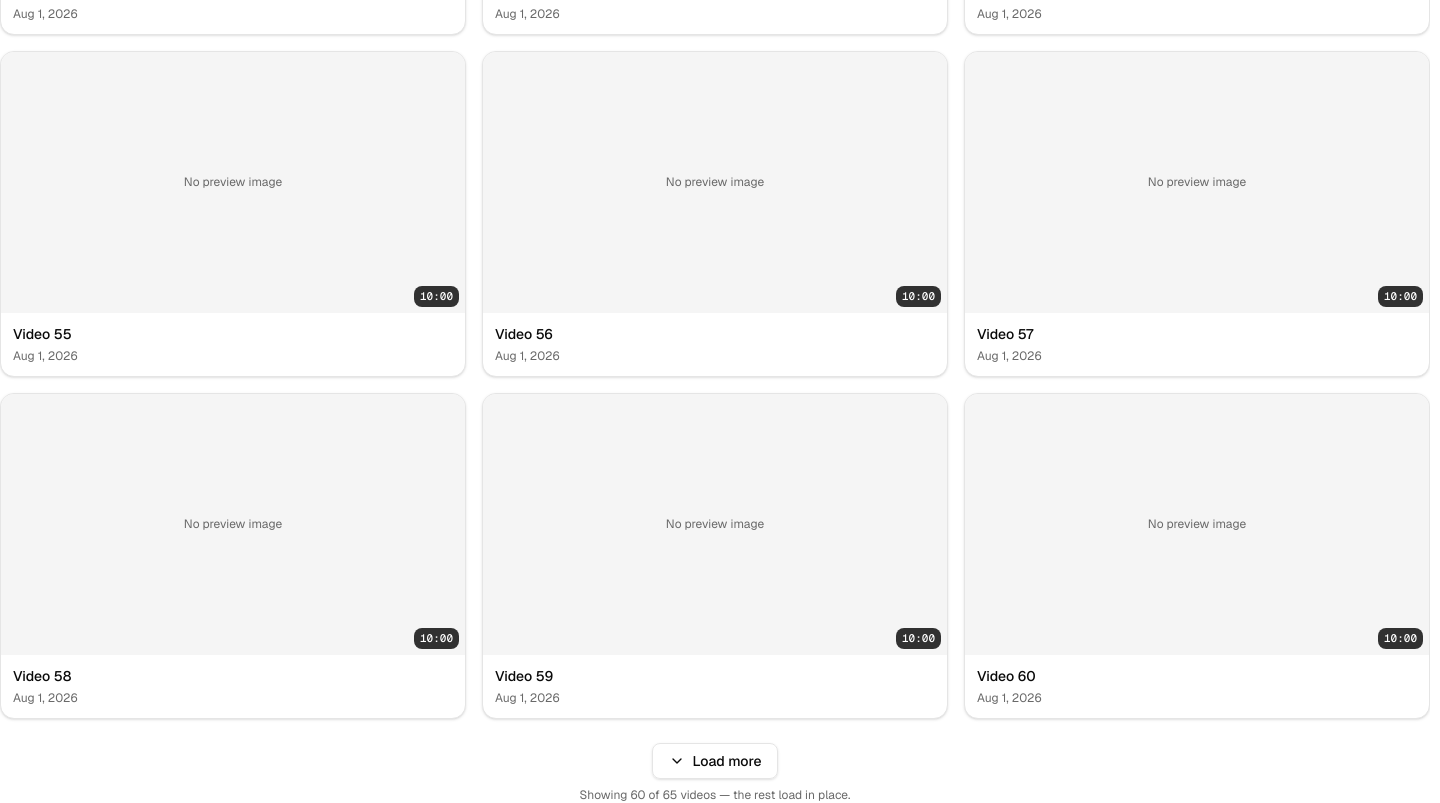
FeedTabs pagination › reveals older items in place via Load more
(page scrolled)
Check: the text "Showing 60 of 65 videos — the rest load in place." is shown, box [580,787,850,802]
Click the button "Load more": click(715, 761) [652,743,778,779]
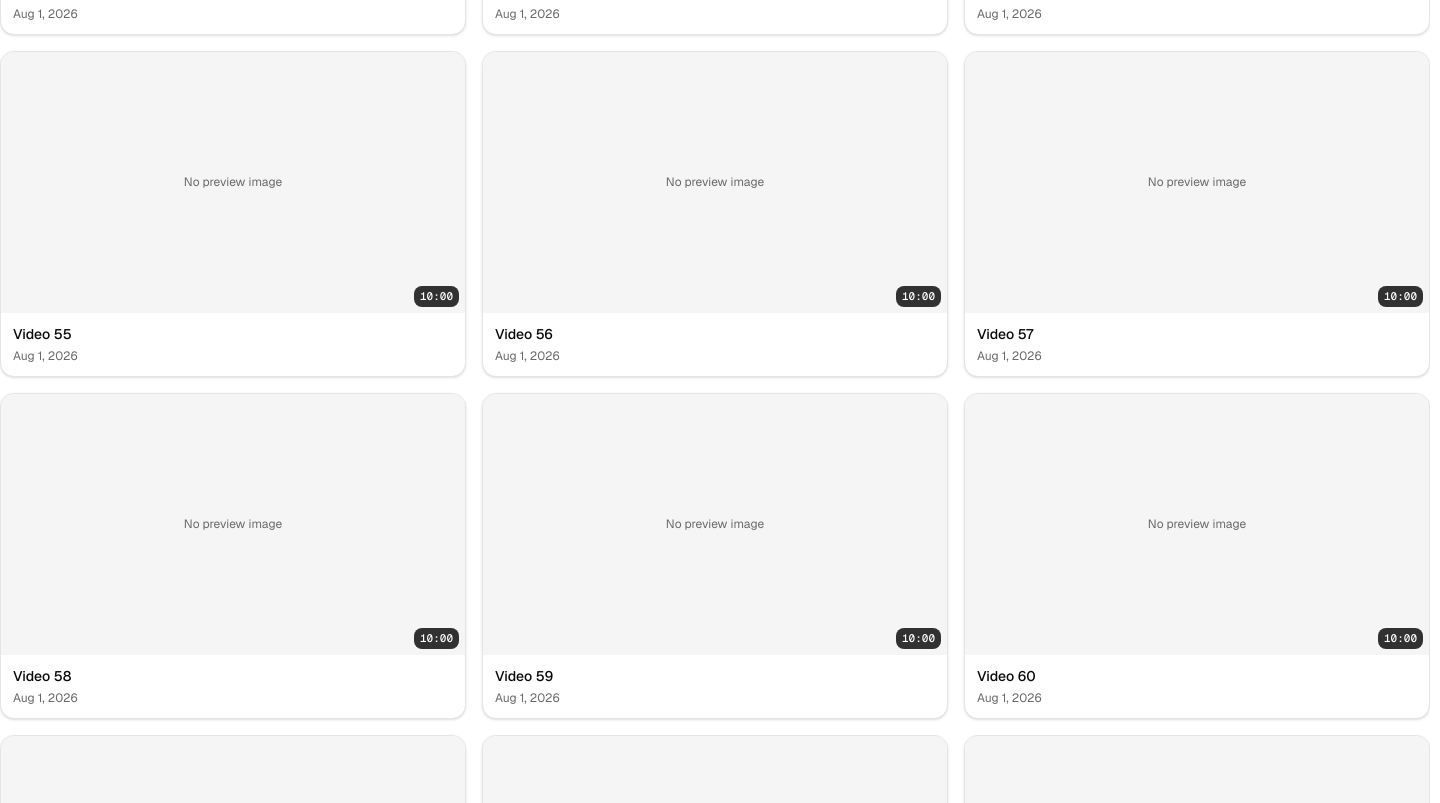
Check: the button "Load more" is gone
